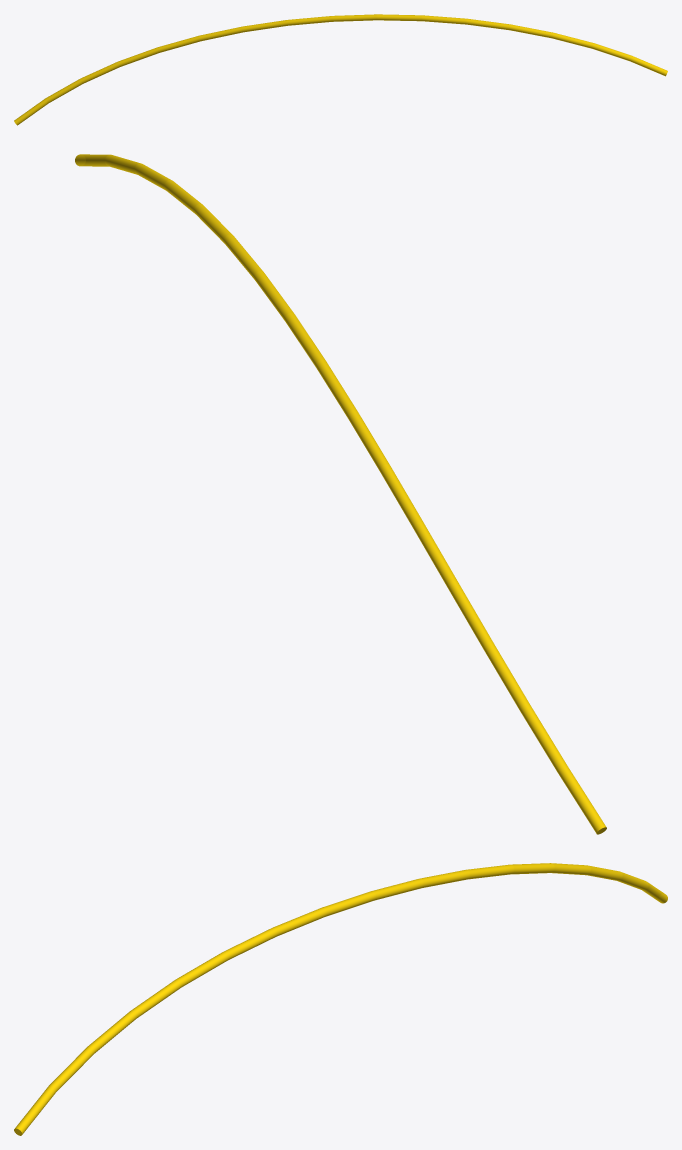
File: Event_421115418_track_33.fbx
3 views of the same model, one above another, from view 1: azimuth 30°, elevation 25°; view 2: azimuth 150°, elevation 25°; view 3: azimuth 270°, elevation 25° (orthographic). The views are drawn at different scales.
Parts seen in each view (by area): view 1: Model; view 2: Model; view 3: Model.
Boxes of the visible parts, bbox=[...] form: Model: bbox=[14, 14, 667, 125]; Model: bbox=[75, 154, 606, 834]; Model: bbox=[14, 863, 667, 1135].
Size of the model in its own units: 3.53 by 0.9231 by 2.63.
